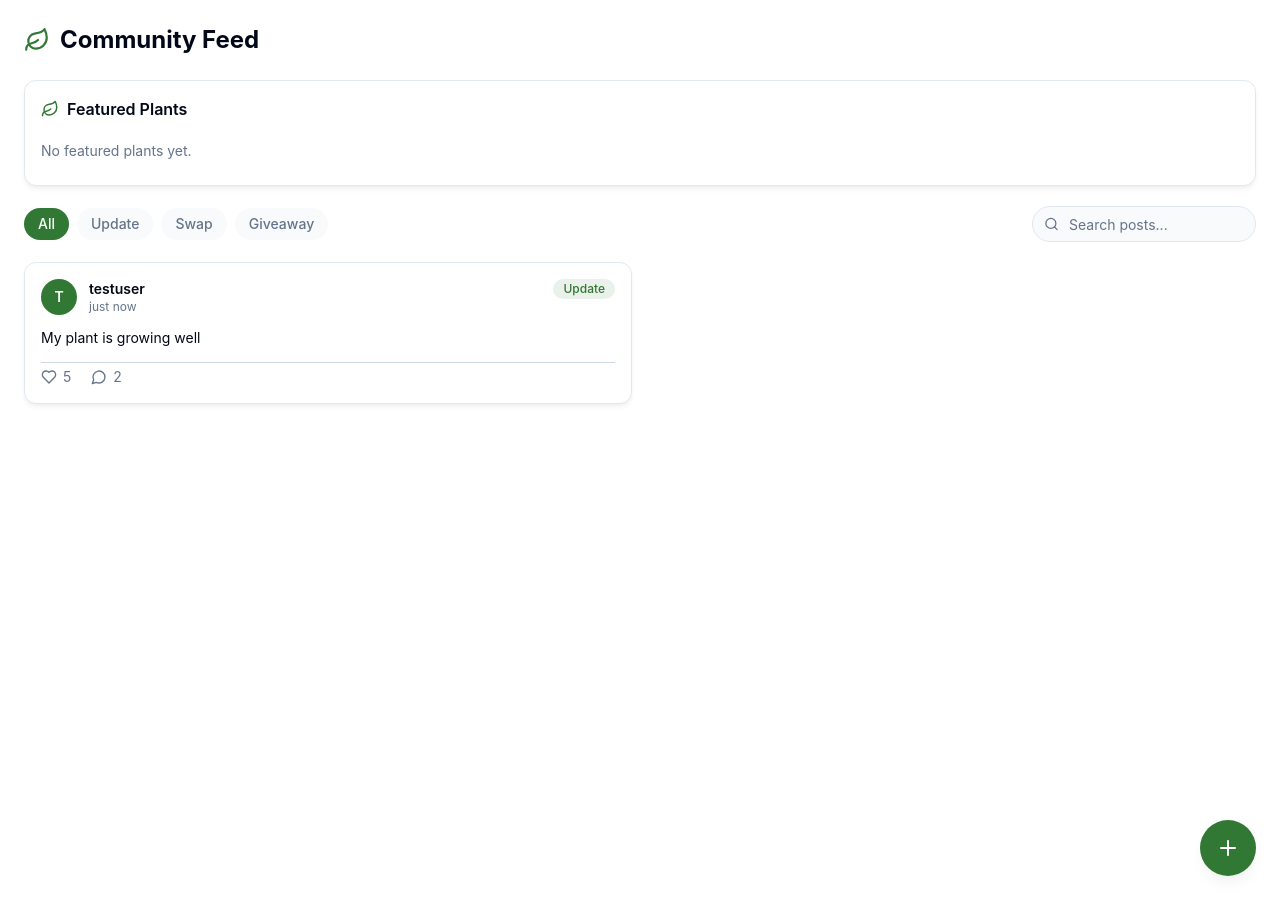
Test case: FeedPage › Rendering › shows empty state when no posts match the active filter
Expected: the text "My plant is growing well" is shown, 41,329 -> 200,346
Click the button "Swap": (194, 224) 162,208 -> 227,240
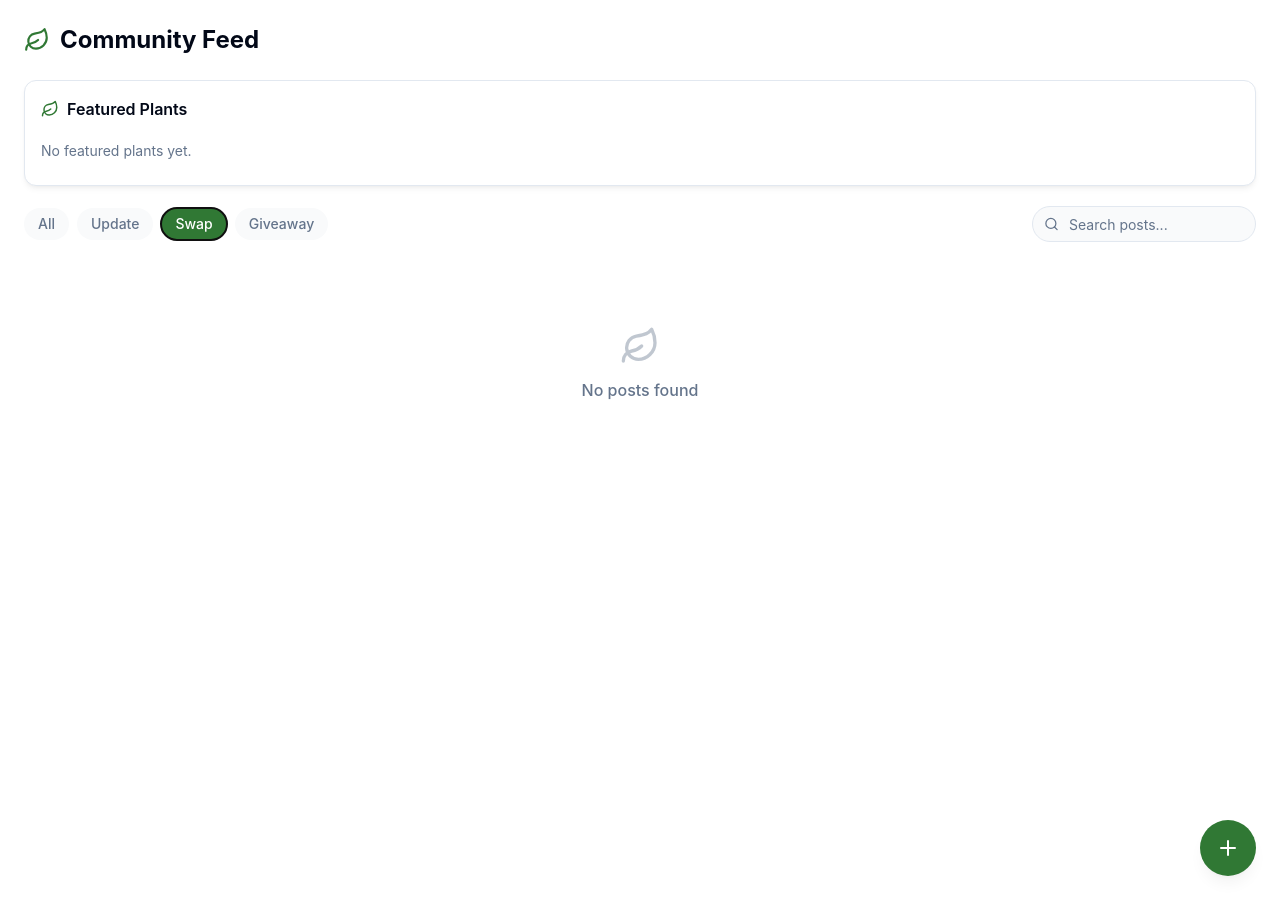
Result: the text "No posts found" is shown at 582,378 -> 698,402
